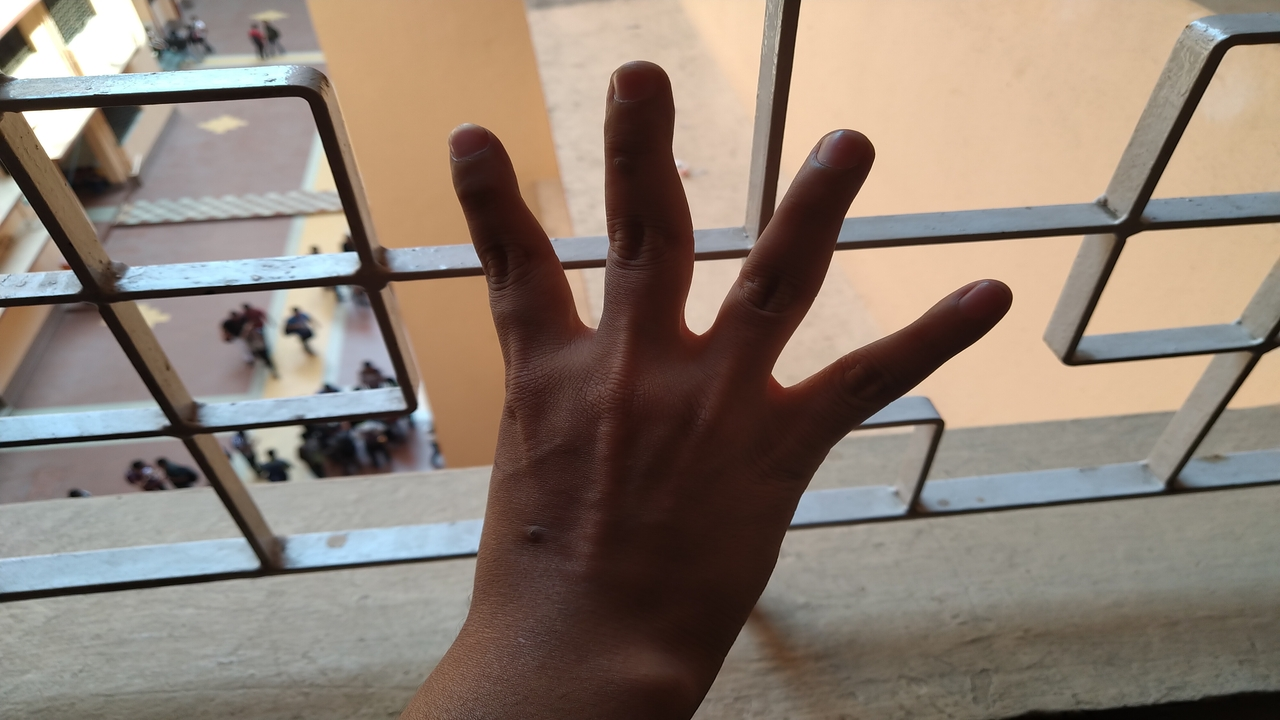fingertip: (600, 56, 676, 118), (438, 118, 512, 176), (808, 126, 882, 184), (944, 280, 1020, 330)
